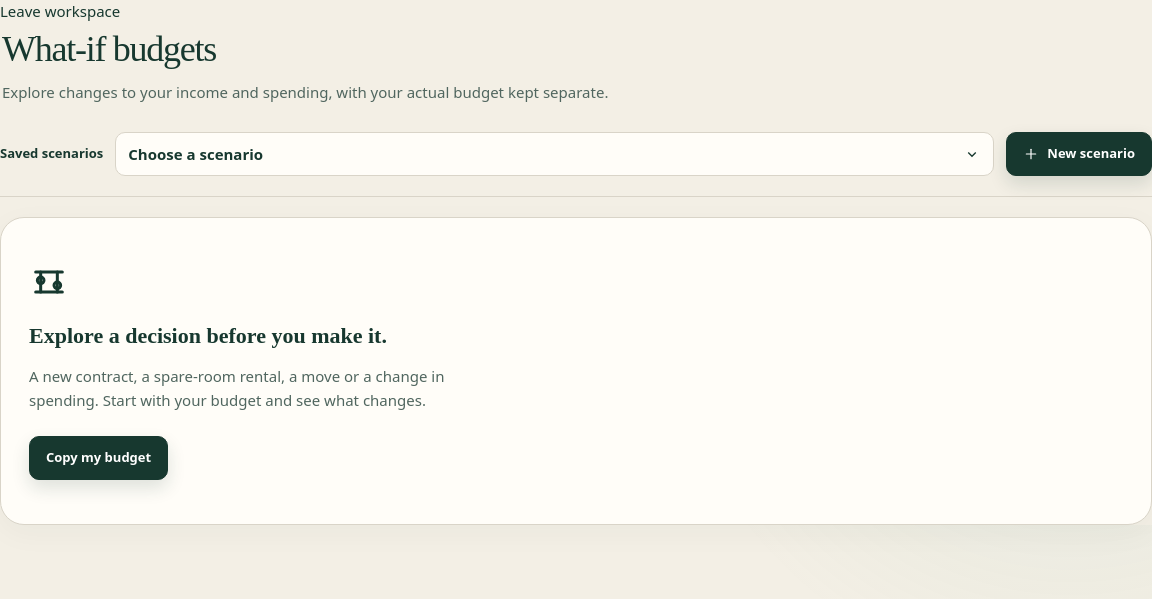
Test: workspace integration › can delete a scenario with incomplete local inputs without saving them
Press ArrowDown in the dropdown named "Saved scenarios", box [115, 132, 994, 176]
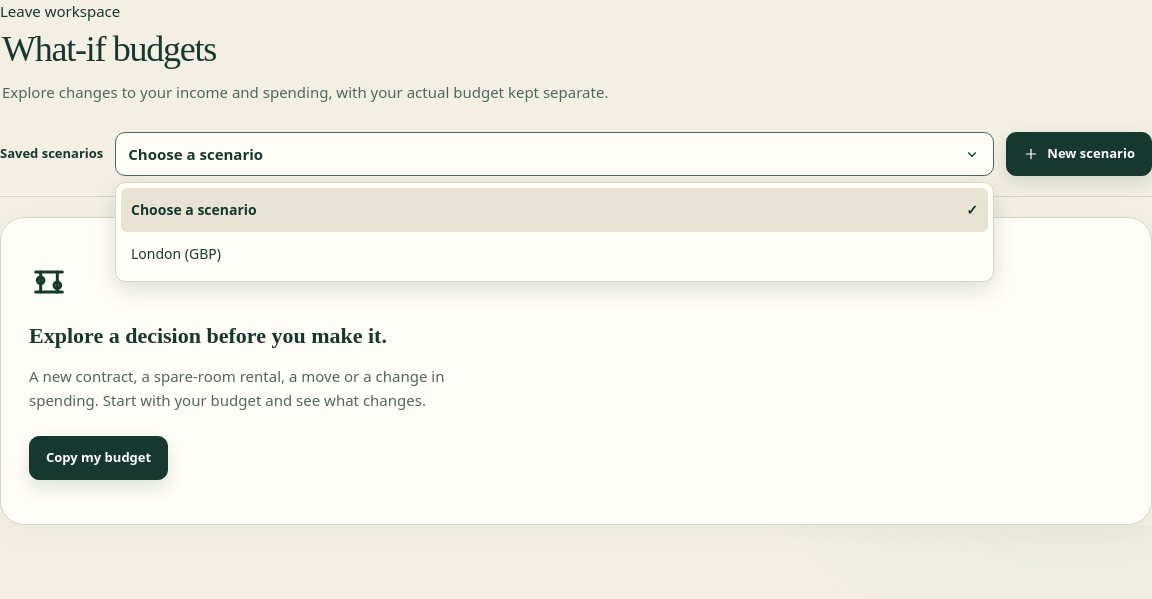
Press Enter in the option "London (GBP)", box [131, 244, 221, 263]
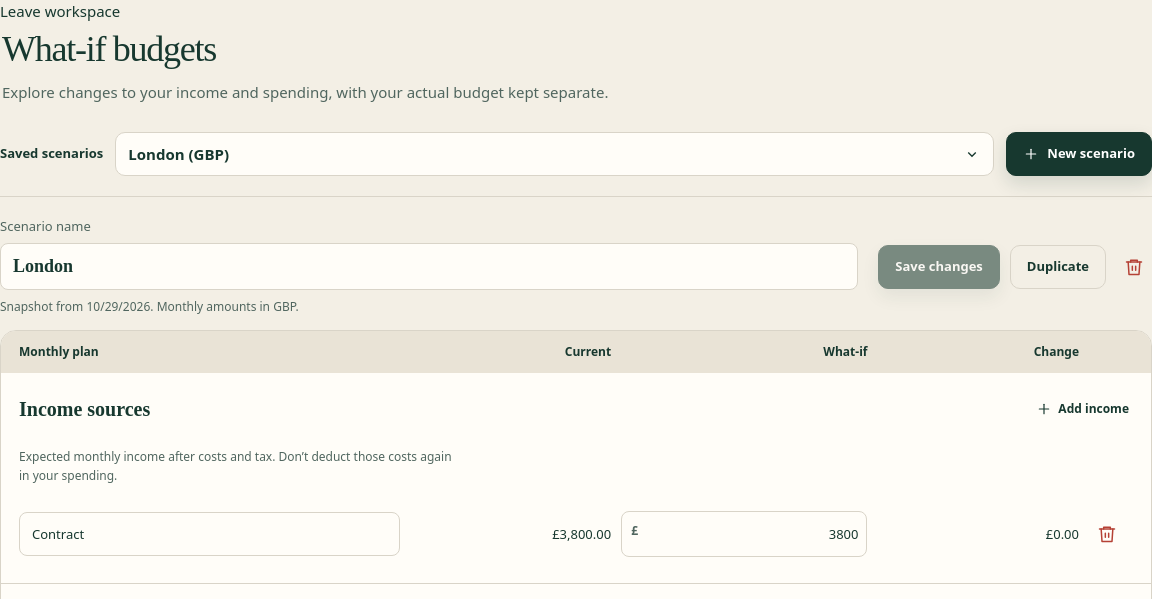
Clear the field named "Contract monthly amount". click: (752, 534)
box: [638, 512, 866, 556]
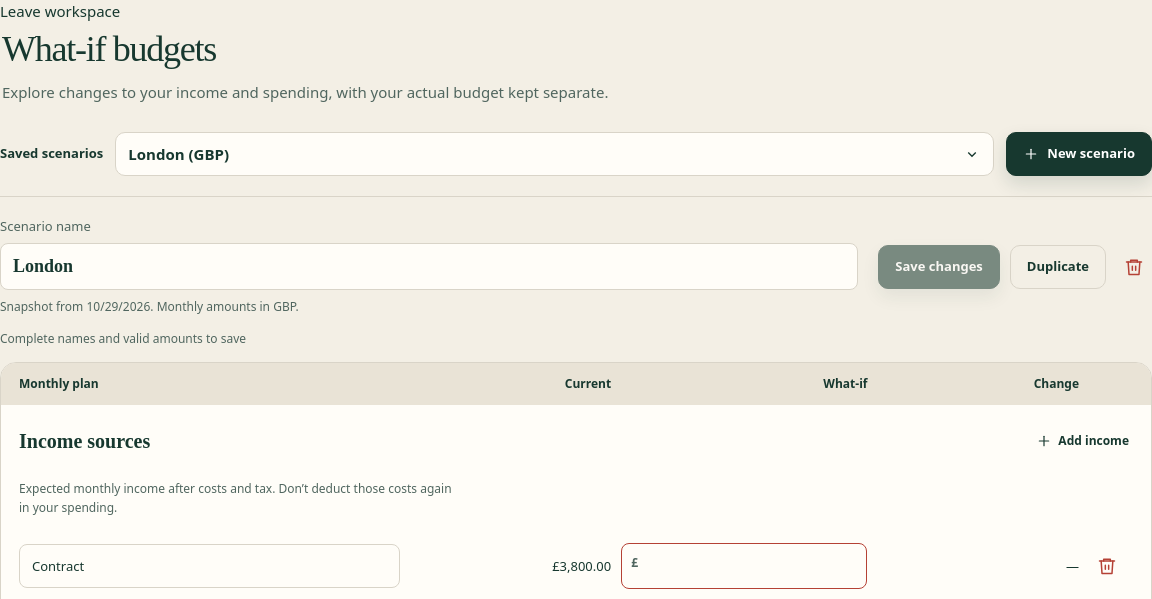
Click the button named "Delete scenario". click: (1134, 267)
box: [1116, 249, 1151, 285]
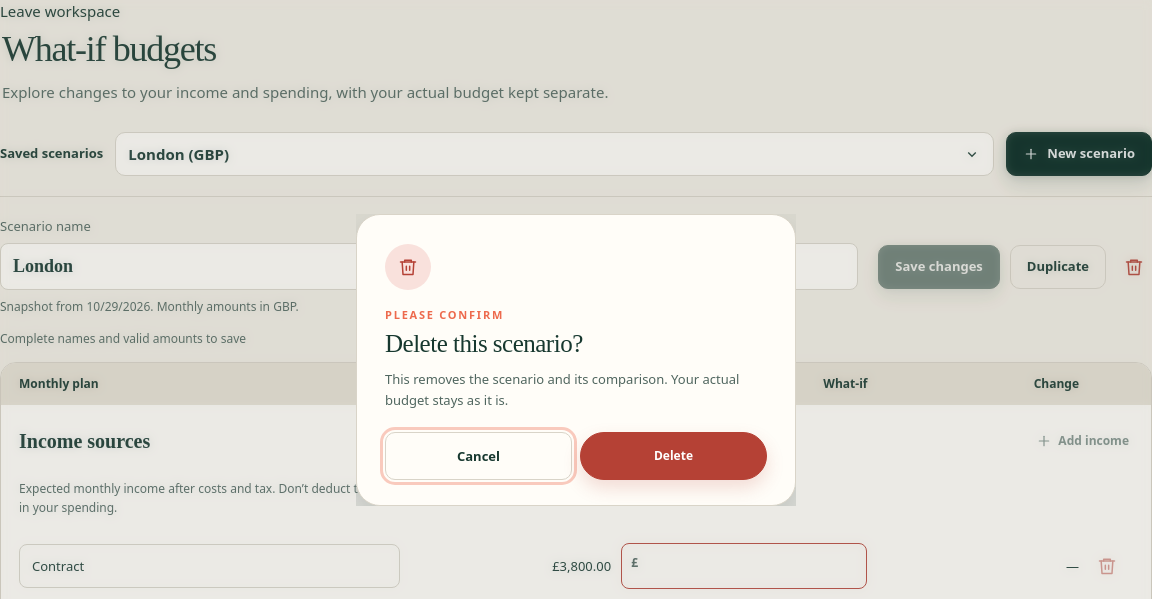
Click the button "Delete". click: (674, 456)
box: [580, 432, 767, 480]
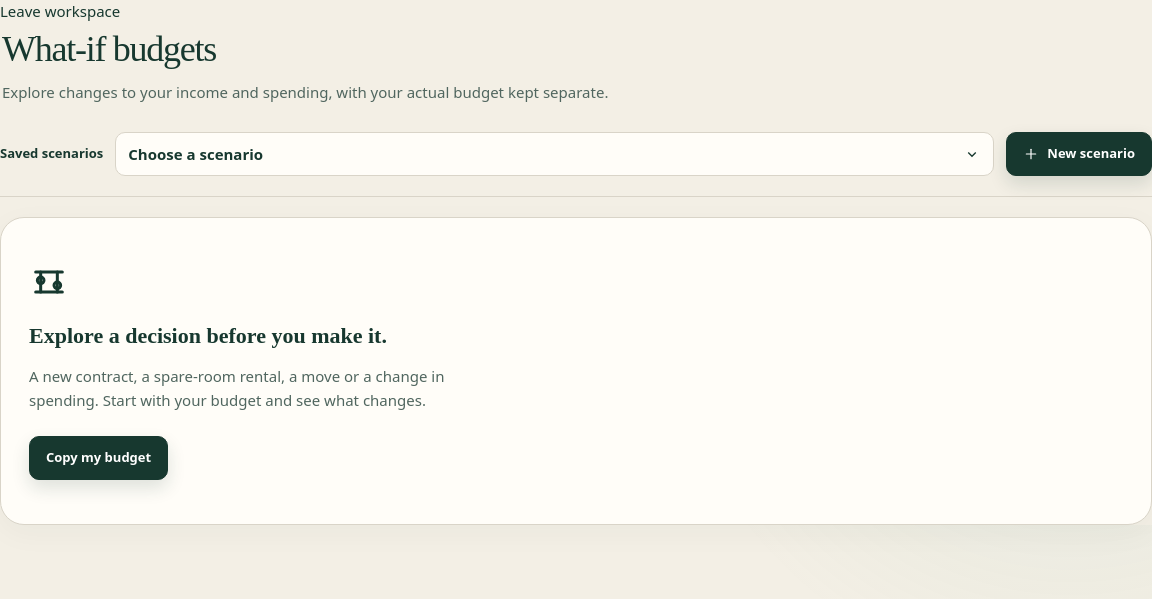
Result: the heading "Explore a decision before you make it." is shown at [29, 323, 387, 348]
